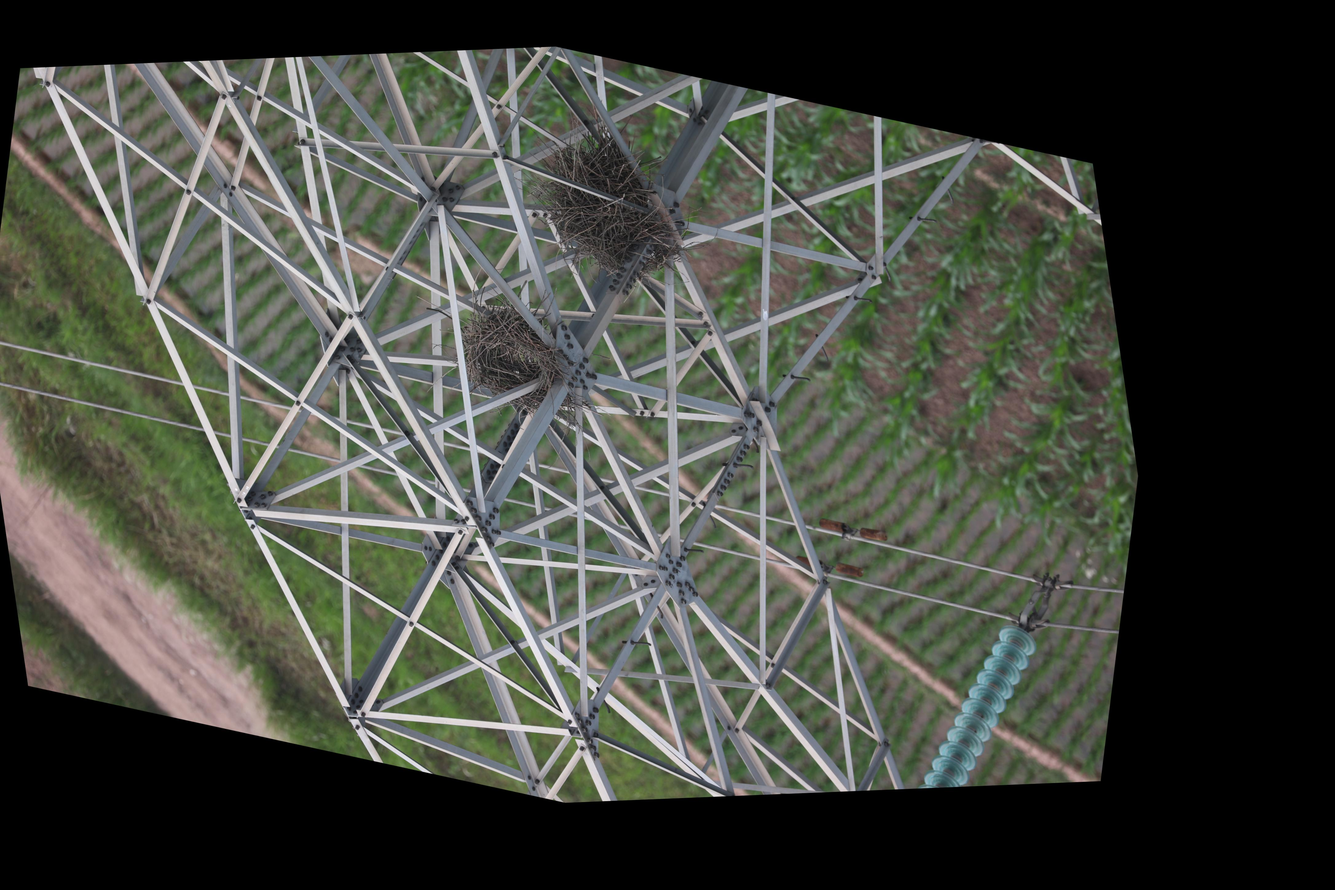damper_defect: (813, 511, 894, 555), (792, 549, 869, 585)
